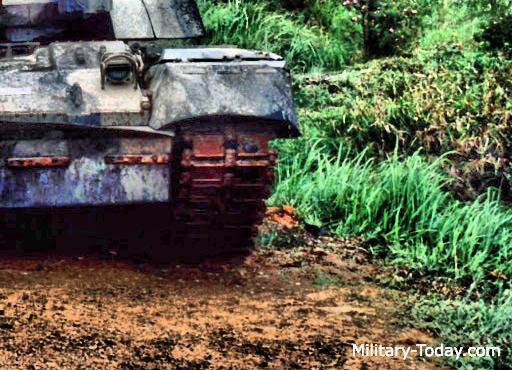tanks: (1, 1, 299, 254)
